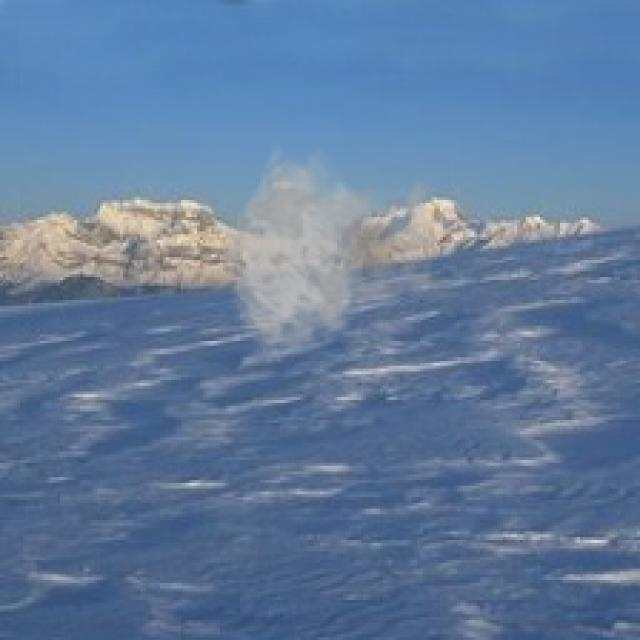smoke: (220, 140, 451, 363)
